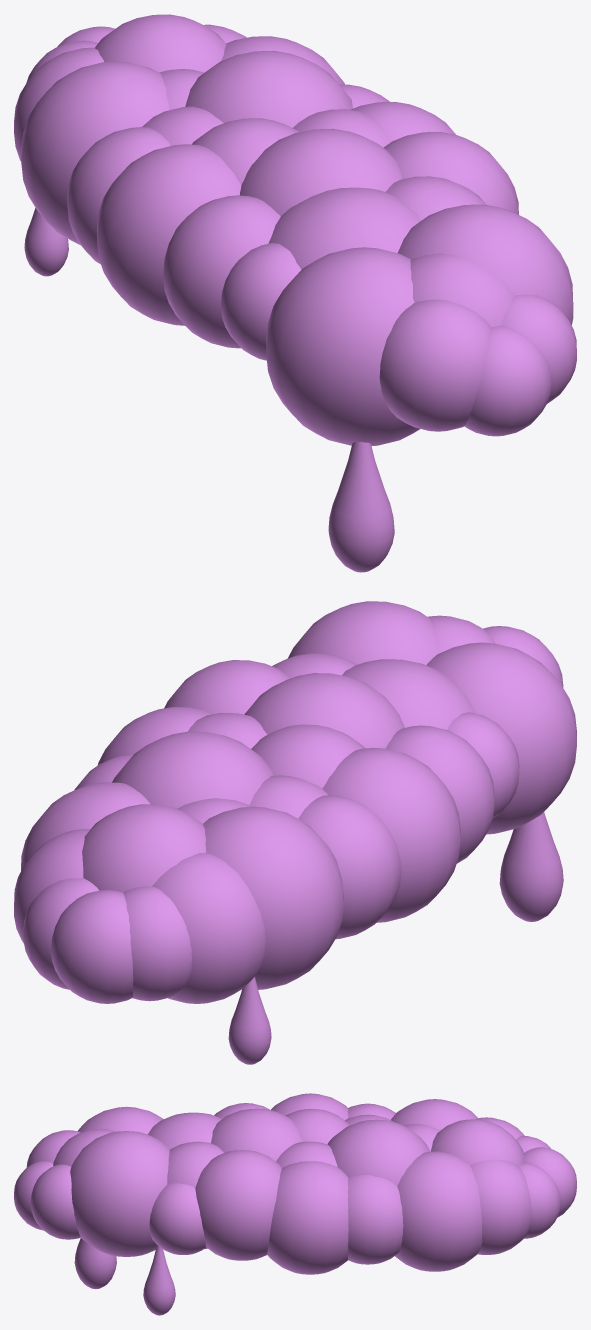
The model's file is JellyPlatform1.fbx.
The picture shows the model from 3 angles, top to bottom: view 1: azimuth 30°, elevation 25°; view 2: azimuth 150°, elevation 25°; view 3: azimuth 270°, elevation 25°; orthographic projection. The views are drawn at different scales.
Visible parts, largest first — view 1: pSphere68; view 2: pSphere68; view 3: pSphere68.
Part boxes in pixels (left/top/right/bottom): pSphere68: left=14, top=14, right=576, bottom=572; pSphere68: left=14, top=601, right=576, bottom=1064; pSphere68: left=14, top=1093, right=576, bottom=1315.
Bounding box in the file's own units: 2.51 × 2.13 × 5.39.
